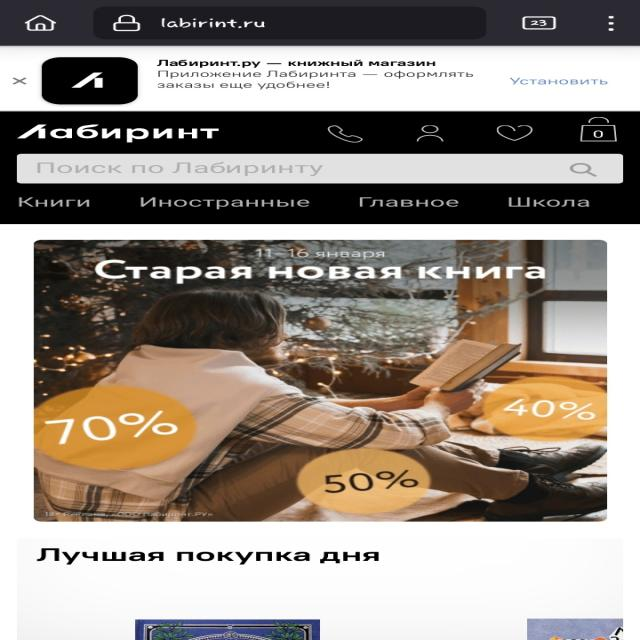button: (9, 74, 30, 88)
site: (0, 44, 640, 111)
